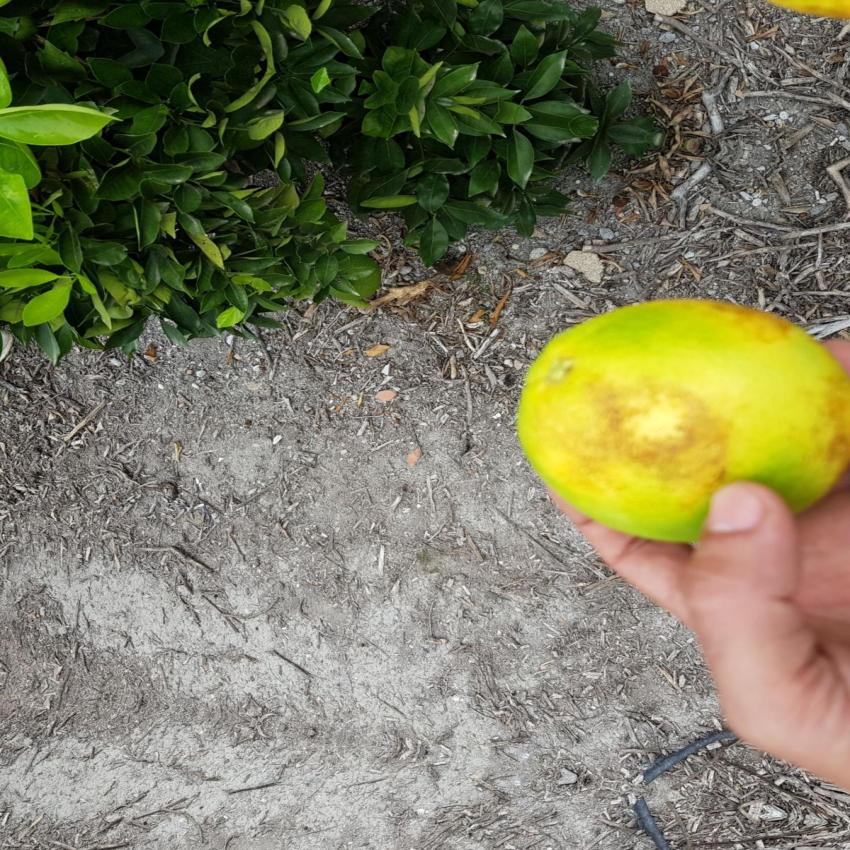Mal estado: (421, 275, 847, 570)
